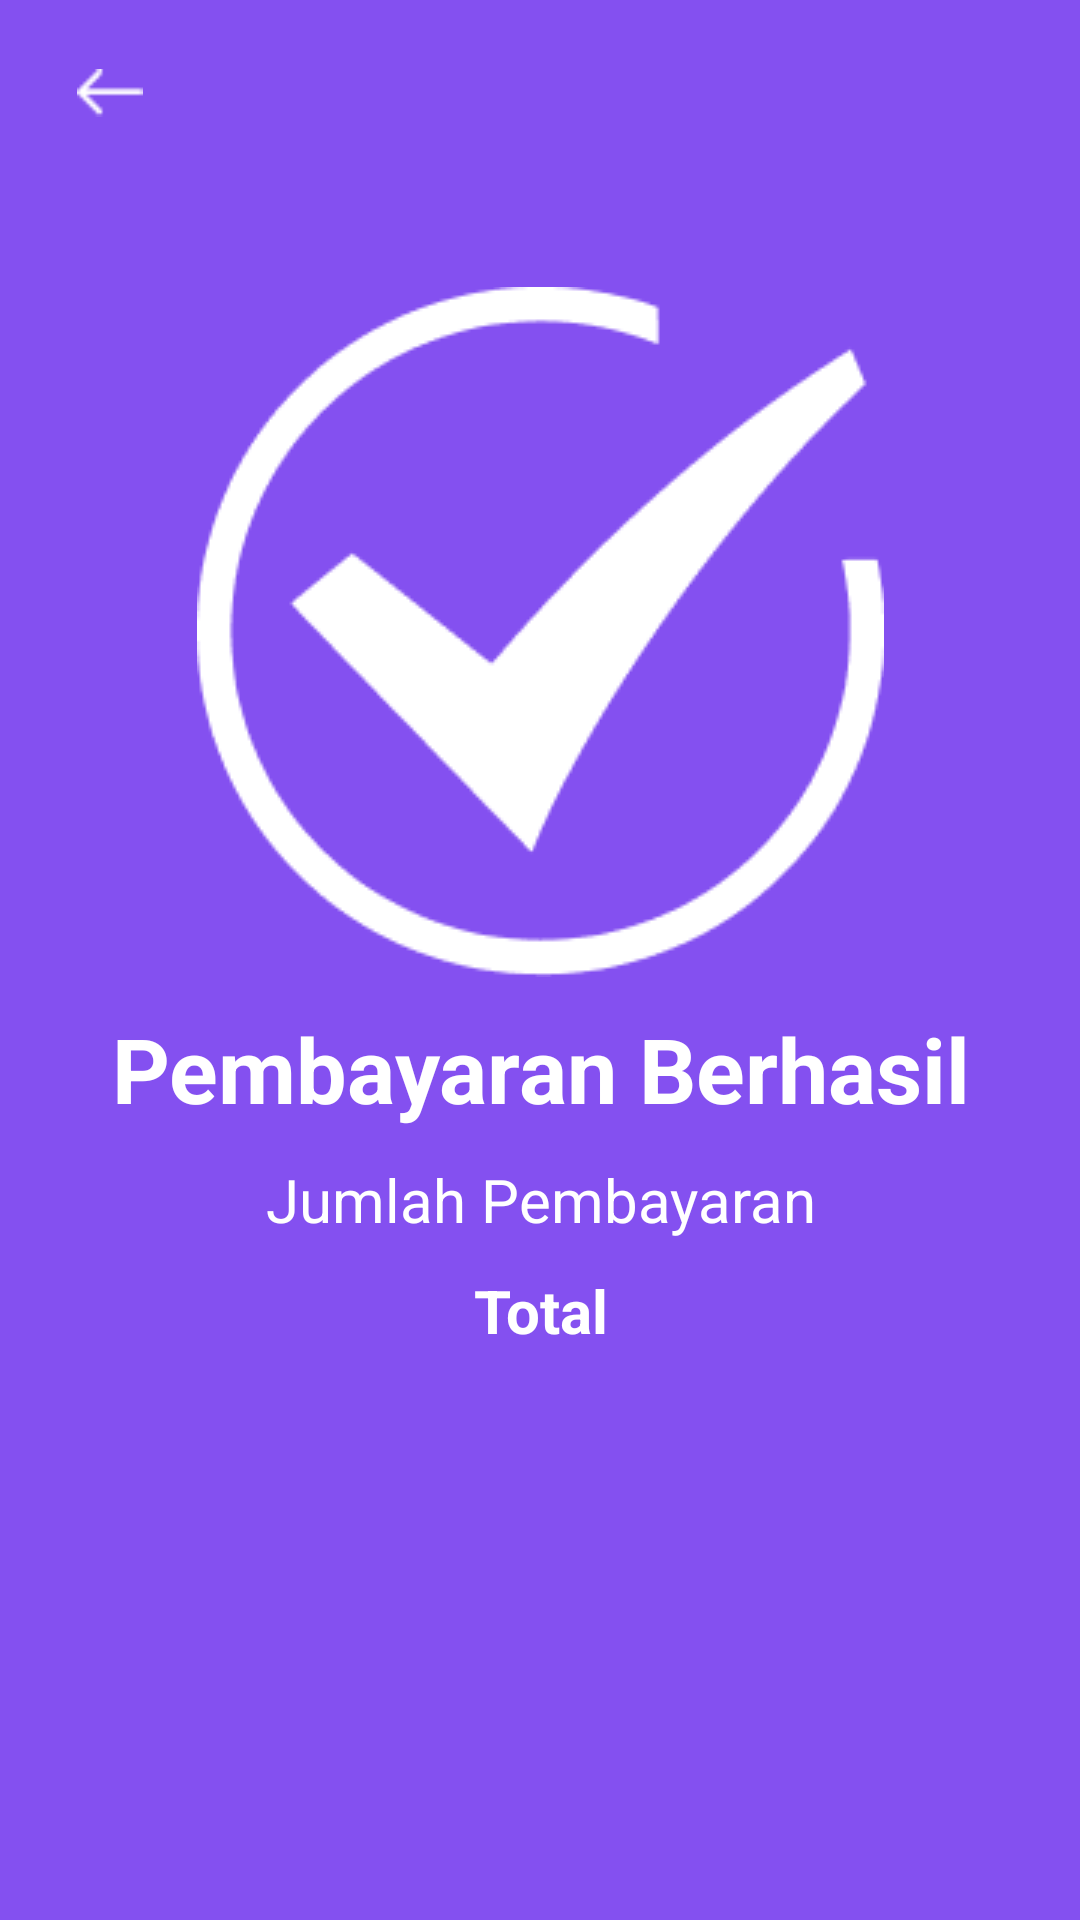

Icons on this 1080px×1920px Android screen, each with its box as (x1, y1, x2, y2):
tombol back: (77, 69, 143, 115)
